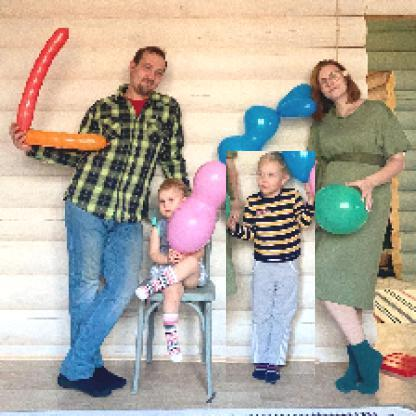child: (227, 153, 317, 385), (137, 178, 209, 364)
